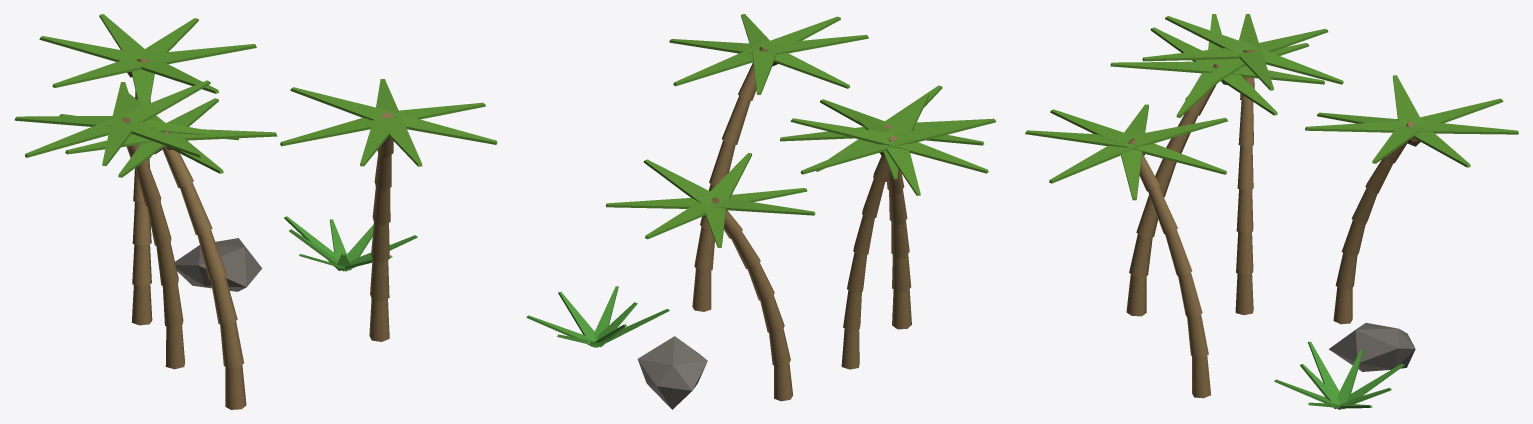
Rendered from sawyer_coastal_palms_b.glb.
3 renders of one model, left to right at view 1: azimuth 30°, elevation 25°; view 2: azimuth 150°, elevation 25°; view 3: azimuth 270°, elevation 25°, orthographic. The views are drawn at different scales.
Visible parts, largest first — view 1: rock_4_rock, palm_5_leaf2, palm_2_leaf6, palm_0_leaf0, palm_0_leaf4, palm_2_leaf3, palm_5_leaf5, palm_2_leaf2, palm_0_leaf1, palm_1_trunk4, palm_1_trunk3, palm_1_trunk2 (+34 smaller); view 2: rock_4_rock, palm_5_leaf2, palm_5_leaf6, palm_0_leaf2, palm_2_leaf3, palm_2_leaf6, palm_5_leaf3, palm_0_leaf6, palm_5_leaf5, palm_0_leaf1, palm_0_trunk0, palm_5_leaf4 (+31 smaller); view 3: rock_4_rock, palm_0_leaf0, palm_5_leaf6, palm_1_leaf4, palm_0_leaf6, palm_0_leaf4, palm_2_leaf5, palm_5_leaf3, palm_5_leaf0, palm_0_leaf2, palm_2_leaf2, palm_2_leaf1 (+35 smaller).
Boxes of the visible parts, left/top/right/bottom form: rock_4_rock: left=175, top=238, right=262, bottom=291; palm_5_leaf2: left=115, top=80, right=210, bottom=123; palm_2_leaf6: left=142, top=44, right=256, bottom=64; palm_0_leaf0: left=290, top=87, right=395, bottom=120; palm_0_leaf4: left=386, top=113, right=497, bottom=144; palm_2_leaf3: left=52, top=57, right=141, bottom=87; palm_5_leaf5: left=25, top=117, right=120, bottom=157; palm_2_leaf2: left=39, top=36, right=142, bottom=61; palm_0_leaf1: left=280, top=117, right=372, bottom=146; palm_1_trunk4: left=180, top=182, right=212, bottom=234; palm_1_trunk3: left=197, top=230, right=227, bottom=280; palm_1_trunk2: left=210, top=276, right=237, bottom=324; rock_4_rock: left=637, top=336, right=707, bottom=409; palm_5_leaf2: left=790, top=118, right=893, bottom=145; palm_5_leaf6: left=894, top=118, right=995, bottom=145; palm_0_leaf2: left=761, top=35, right=868, bottom=54; palm_2_leaf3: left=713, top=198, right=815, bottom=215; palm_2_leaf6: left=643, top=159, right=713, bottom=204; palm_5_leaf3: left=800, top=141, right=900, bottom=174; palm_0_leaf6: left=673, top=45, right=760, bottom=86; palm_5_leaf5: left=888, top=142, right=988, bottom=173; palm_0_leaf1: left=766, top=48, right=850, bottom=88; palm_0_trunk0: left=692, top=269, right=711, bottom=311; palm_5_leaf4: left=884, top=144, right=920, bottom=195; rock_4_rock: left=1329, top=323, right=1415, bottom=371; palm_0_leaf0: left=1128, top=117, right=1227, bottom=146; palm_5_leaf6: left=1165, top=16, right=1256, bottom=52; palm_1_leaf4: left=1110, top=61, right=1215, bottom=73; palm_0_leaf6: left=1125, top=143, right=1226, bottom=174; palm_0_leaf4: left=1049, top=140, right=1137, bottom=183; palm_2_leaf5: left=1305, top=121, right=1406, bottom=132; palm_5_leaf3: left=1251, top=47, right=1343, bottom=84; palm_5_leaf0: left=1142, top=48, right=1242, bottom=61; palm_0_leaf2: left=1050, top=109, right=1131, bottom=145; palm_2_leaf2: left=1413, top=98, right=1503, bottom=127; palm_2_leaf1: left=1414, top=123, right=1518, bottom=134.
Size of the model in its own units: 5.05 by 3.07 by 5.4.
